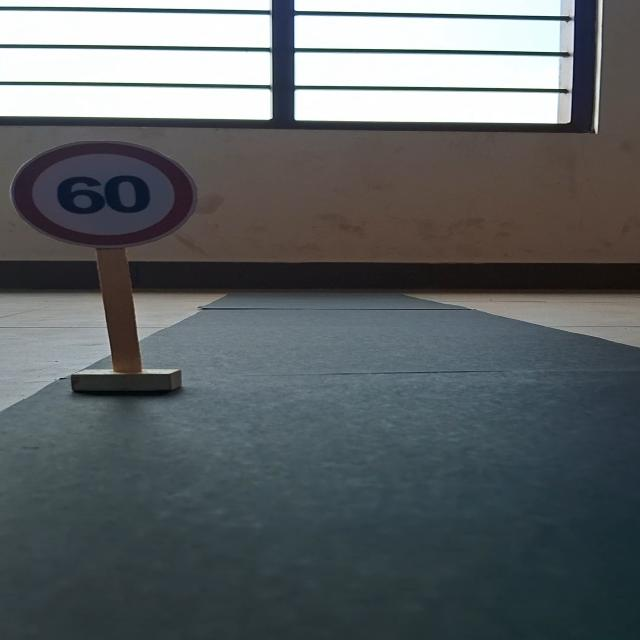Speed60: (12, 141, 198, 252)
